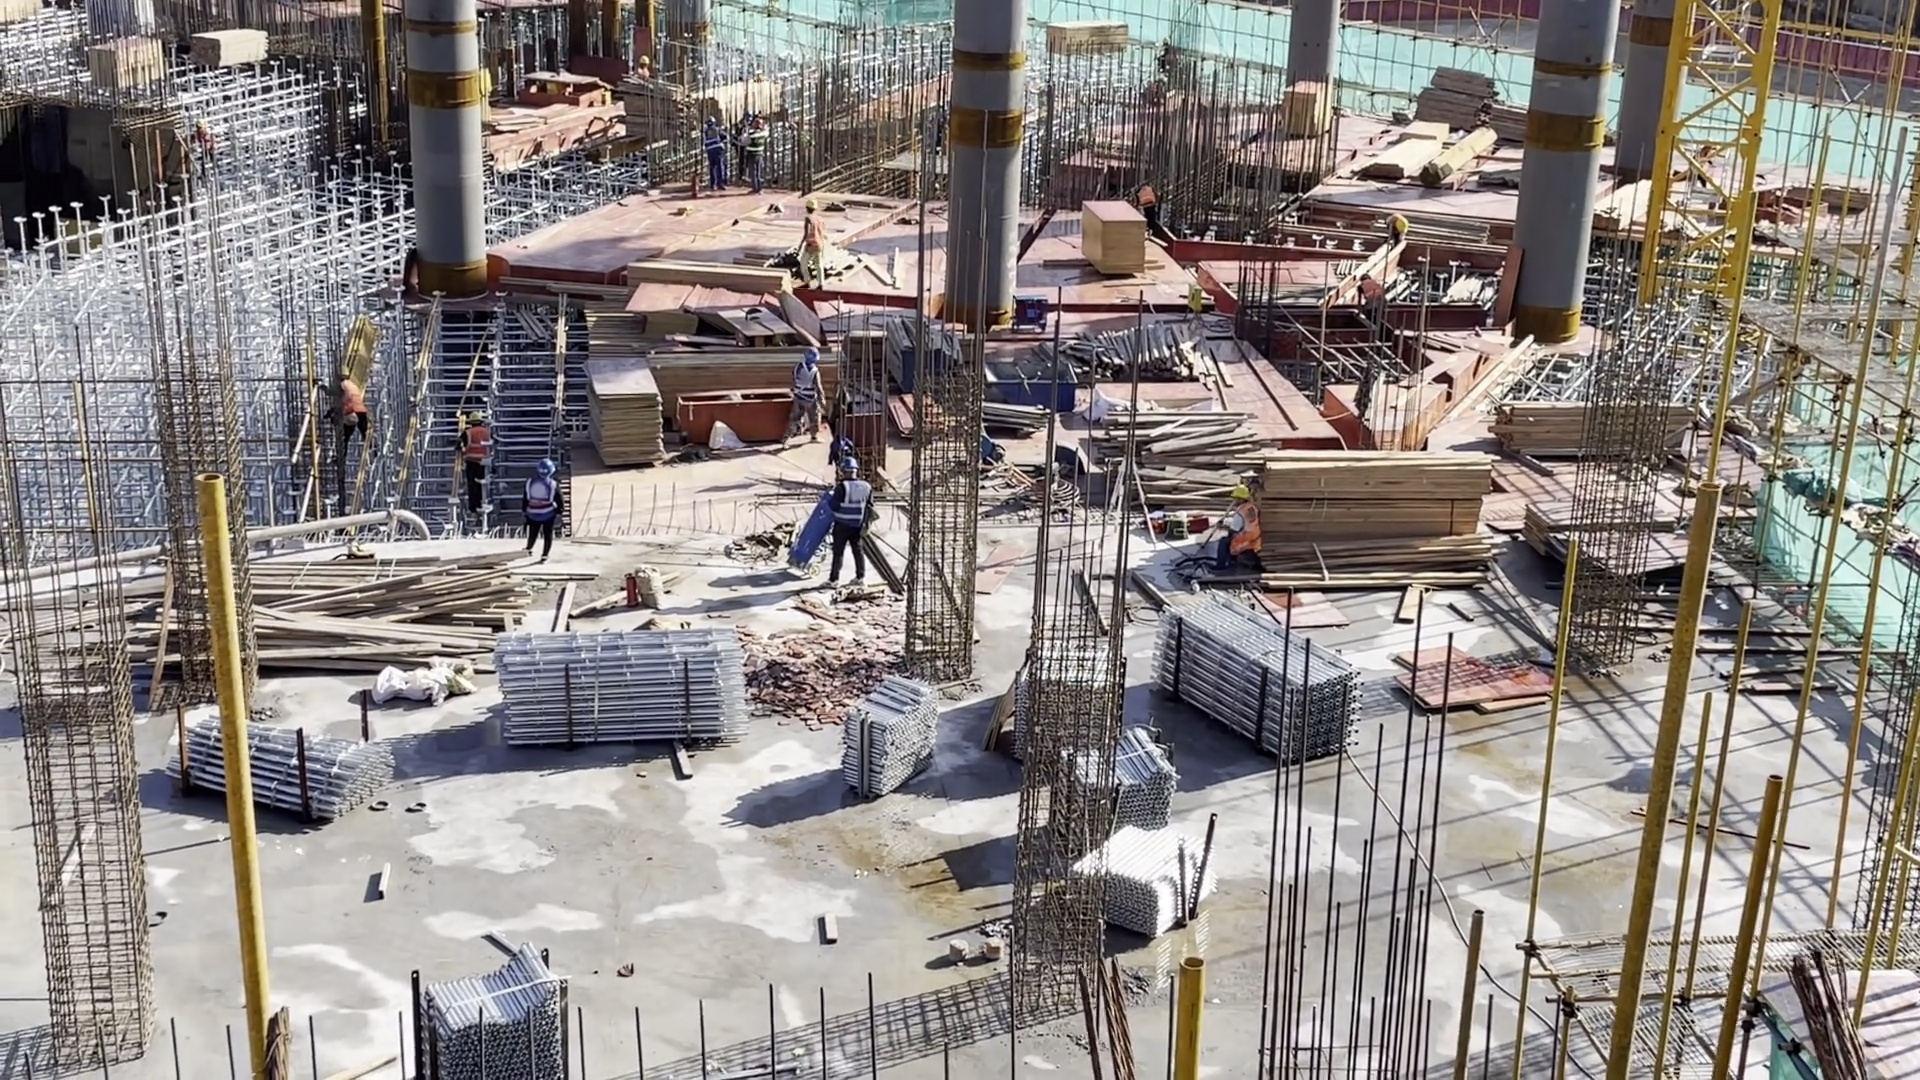helmet: (535, 457, 555, 479), (841, 456, 859, 472), (1230, 484, 1249, 499), (1395, 215, 1408, 232), (805, 347, 818, 362), (804, 198, 817, 210), (469, 411, 483, 422), (638, 56, 649, 64)
person: (831, 458, 867, 584), (1219, 484, 1261, 576), (327, 365, 366, 461), (527, 457, 556, 566), (793, 345, 820, 439), (463, 411, 486, 504), (800, 198, 824, 289), (702, 117, 724, 189), (745, 119, 764, 193)
vest: (838, 474, 871, 531), (338, 376, 369, 419), (1227, 507, 1258, 547), (461, 423, 492, 464), (527, 474, 551, 524), (804, 210, 819, 254), (702, 127, 719, 158), (796, 372, 811, 403)
